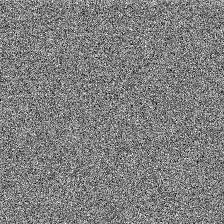cavities: (56, 76, 125, 136)
